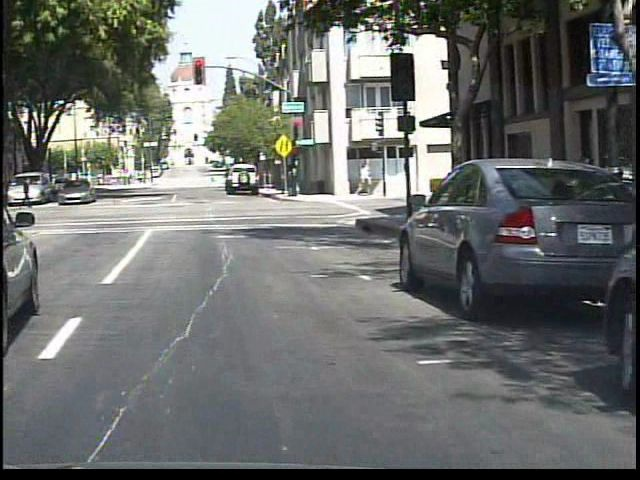person: (19, 173, 33, 213), (206, 172, 221, 190), (3, 175, 4, 212)
